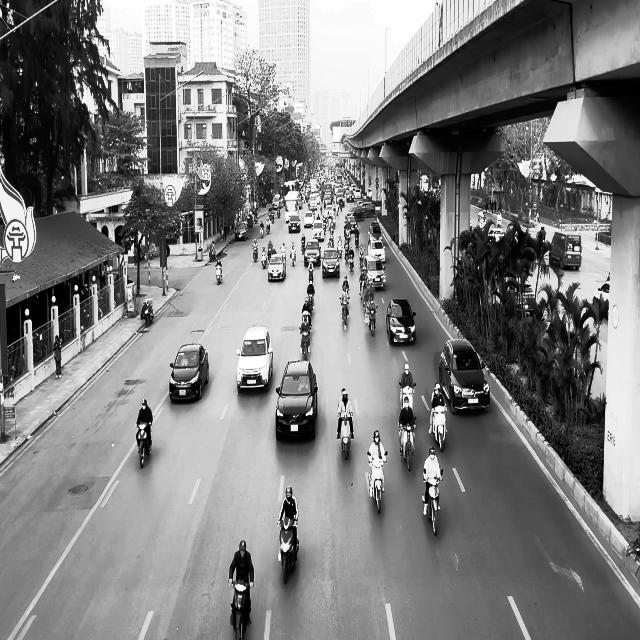car: (438, 338, 490, 414), (275, 359, 318, 441), (236, 325, 273, 393), (169, 343, 209, 402), (386, 298, 416, 345), (362, 255, 387, 290), (592, 280, 610, 319), (267, 253, 286, 281), (322, 248, 339, 278), (304, 239, 320, 267), (235, 221, 248, 241)
motorbike: (277, 518, 299, 584), (229, 578, 252, 639), (423, 469, 443, 535), (367, 450, 387, 514), (398, 417, 416, 471), (430, 404, 447, 452), (135, 421, 152, 468), (338, 414, 352, 459), (399, 382, 416, 411), (300, 324, 312, 359), (140, 298, 154, 326), (339, 296, 349, 329), (367, 305, 377, 336), (215, 261, 222, 284)
